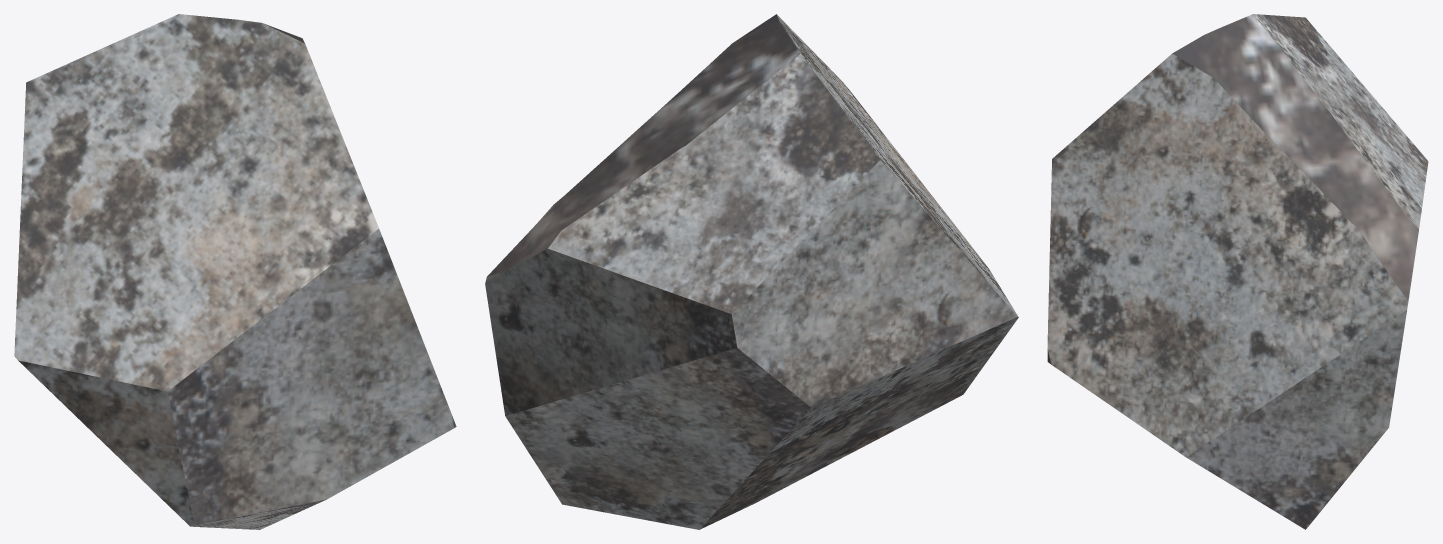
Rendered from Asteroid_Large_001_02_009_03_022.fbx.
3 views of the same model, side by side, from view 1: azimuth 30°, elevation 25°; view 2: azimuth 150°, elevation 25°; view 3: azimuth 270°, elevation 25° (orthographic). The views are drawn at different scales.
Parts seen in each view (by area): view 1: Asteroid_Large_001_02_009_03_022; view 2: Asteroid_Large_001_02_009_03_022; view 3: Asteroid_Large_001_02_009_03_022.
Part boxes in pixels (left/top/right/bottom): Asteroid_Large_001_02_009_03_022: left=14, top=14, right=456, bottom=529; Asteroid_Large_001_02_009_03_022: left=485, top=14, right=1018, bottom=529; Asteroid_Large_001_02_009_03_022: left=1047, top=14, right=1428, bottom=529.
Bounding box in the file's own units: 10.07 × 11.5 × 9.09.
